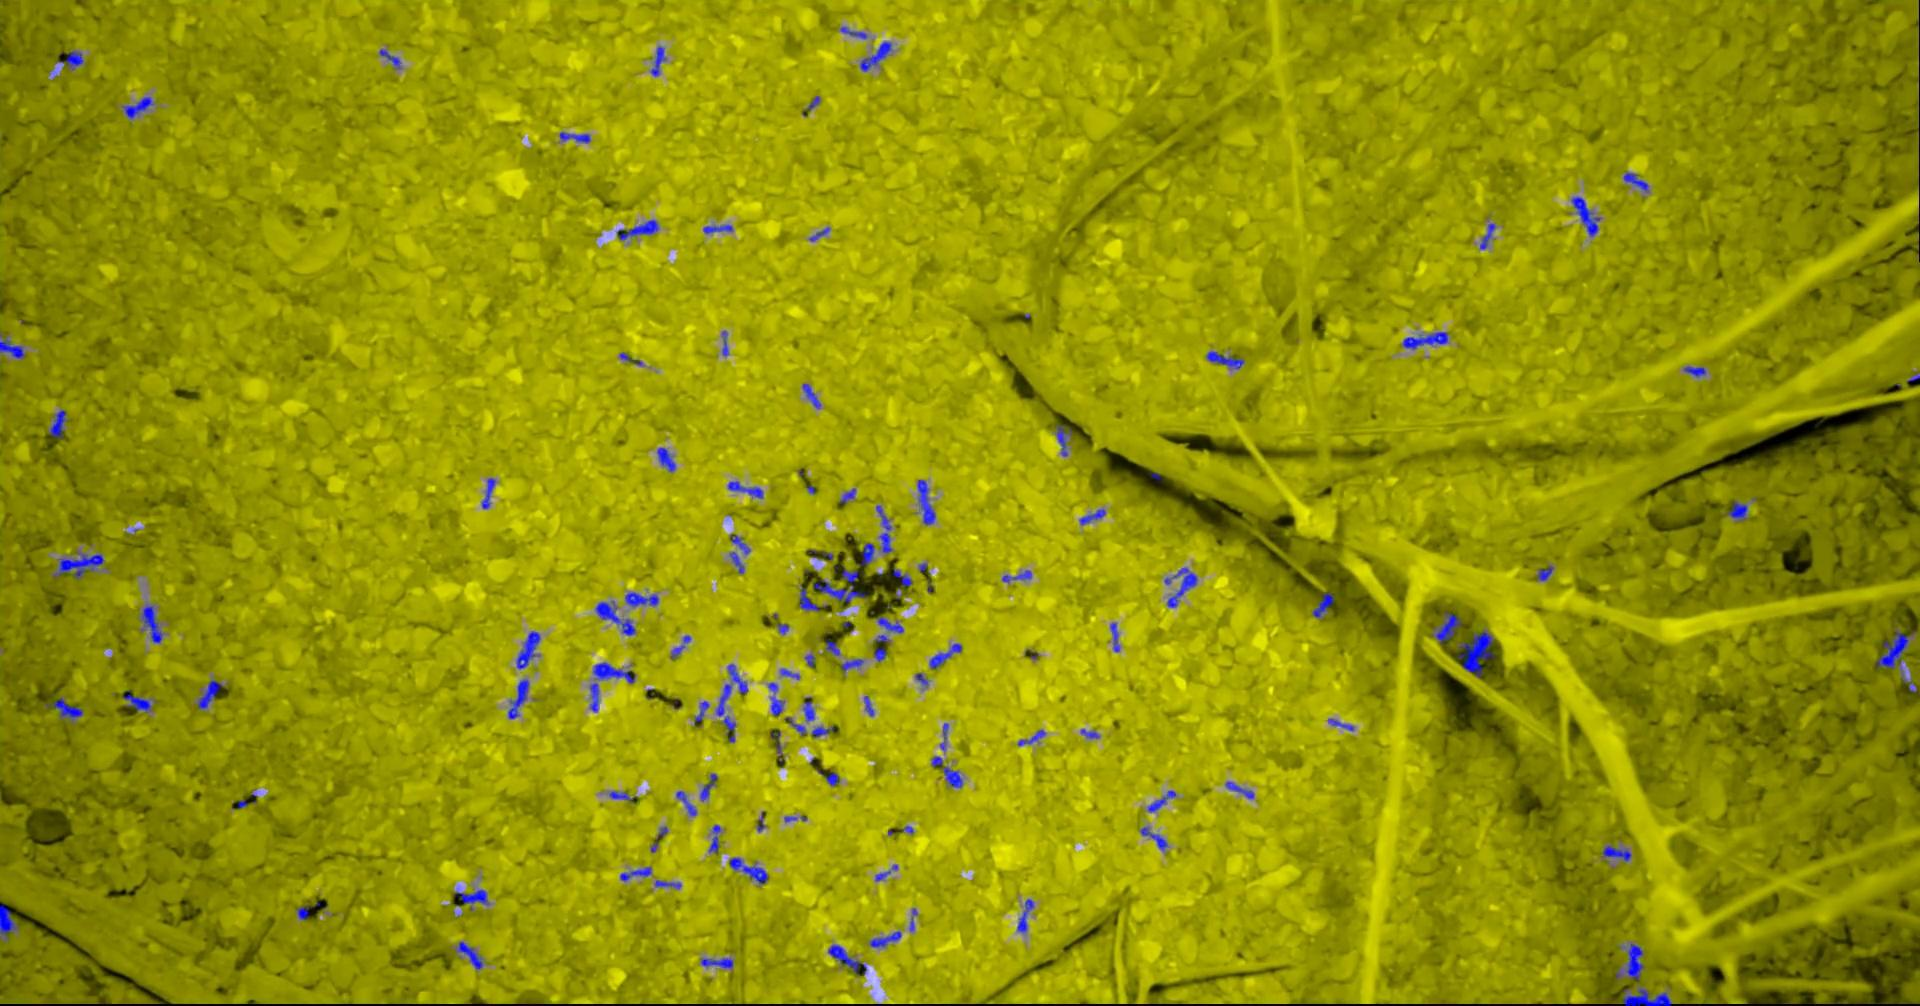ant: (716, 664, 747, 734), (811, 568, 866, 602), (1457, 629, 1493, 677), (596, 600, 635, 635), (1166, 567, 1196, 607), (1876, 630, 1909, 667), (827, 944, 866, 974), (1571, 196, 1599, 236), (56, 553, 103, 577), (728, 857, 768, 883), (860, 41, 891, 71), (592, 662, 635, 683), (516, 631, 540, 668), (1622, 987, 1671, 1005), (616, 218, 658, 239), (507, 680, 528, 718), (44, 697, 83, 719), (1402, 332, 1448, 349), (917, 479, 935, 525), (1435, 611, 1462, 641), (930, 643, 961, 668), (141, 605, 163, 641), (196, 680, 223, 708), (875, 506, 891, 553), (799, 584, 827, 611), (455, 889, 489, 909), (457, 941, 483, 968), (122, 688, 151, 711), (122, 97, 152, 118), (1206, 351, 1243, 368), (1625, 942, 1643, 979), (0, 332, 24, 358), (1140, 827, 1167, 850), (1147, 790, 1175, 812), (728, 481, 762, 498), (1016, 898, 1032, 932), (869, 930, 900, 948), (1312, 592, 1333, 617), (676, 790, 696, 815), (618, 866, 651, 882), (0, 904, 15, 937), (1055, 424, 1070, 456), (1601, 845, 1630, 861), (623, 592, 658, 606), (700, 774, 717, 800), (771, 730, 783, 767), (650, 46, 665, 76), (1225, 781, 1253, 798), (1623, 171, 1647, 191), (657, 447, 676, 471), (1017, 729, 1044, 746), (942, 766, 963, 788), (670, 635, 690, 658), (58, 51, 83, 69), (803, 384, 820, 408), (50, 409, 65, 437), (481, 478, 495, 508), (1079, 508, 1105, 525), (877, 616, 903, 633), (378, 50, 400, 69), (785, 716, 806, 735), (1479, 224, 1495, 249), (730, 533, 749, 554), (1726, 500, 1747, 518), (695, 700, 709, 727), (559, 131, 590, 142), (700, 956, 731, 968), (891, 568, 910, 586), (1002, 570, 1031, 582), (841, 25, 866, 38), (1327, 718, 1352, 730), (860, 542, 874, 565), (709, 824, 720, 852), (729, 551, 743, 573), (841, 658, 863, 671), (803, 696, 814, 721), (608, 791, 634, 803), (1110, 622, 1119, 652), (589, 682, 598, 711), (1537, 565, 1553, 580), (703, 224, 731, 232), (811, 727, 836, 737), (770, 696, 782, 715), (1683, 366, 1705, 376), (655, 879, 681, 888), (841, 488, 855, 503), (825, 640, 839, 655), (872, 647, 886, 661), (863, 695, 872, 716), (825, 771, 838, 785), (297, 904, 309, 920)
